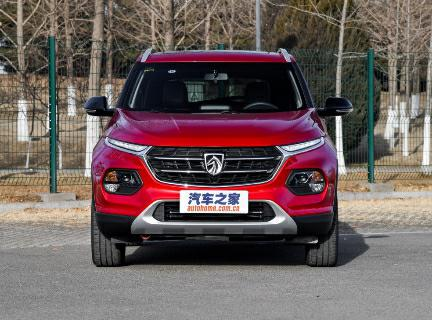宝骏-510: (84, 47, 347, 271)
